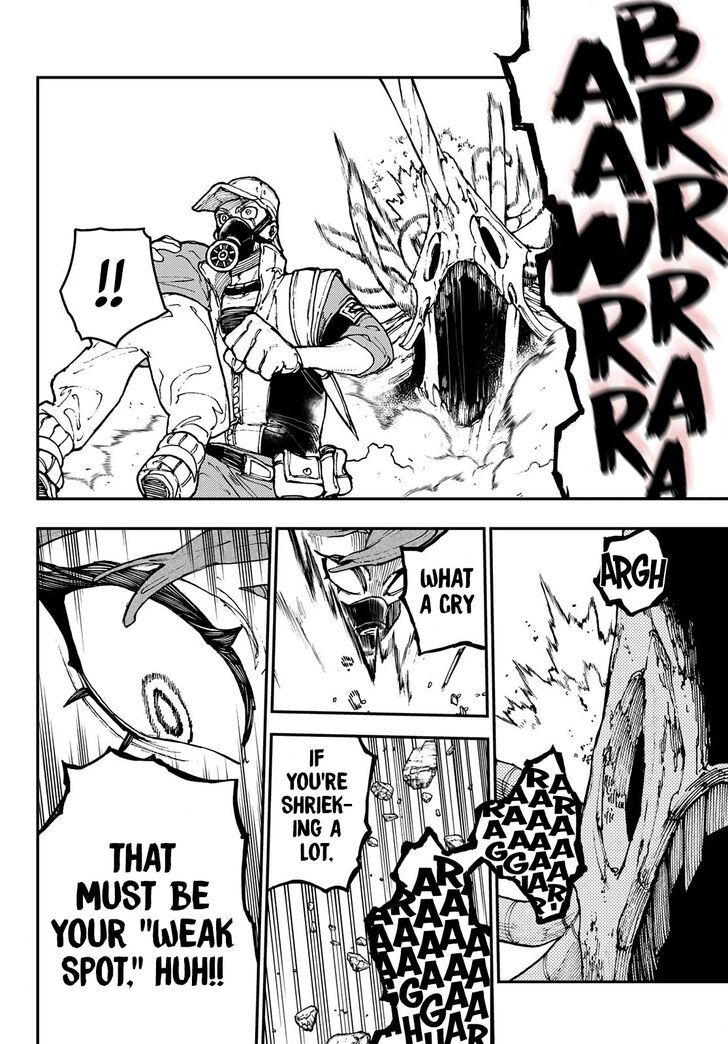bubble: (507, 0, 728, 500), (37, 748, 258, 1044), (368, 831, 493, 1044), (474, 751, 583, 923), (267, 733, 376, 891), (60, 227, 167, 347), (401, 528, 487, 656), (595, 529, 671, 616)
